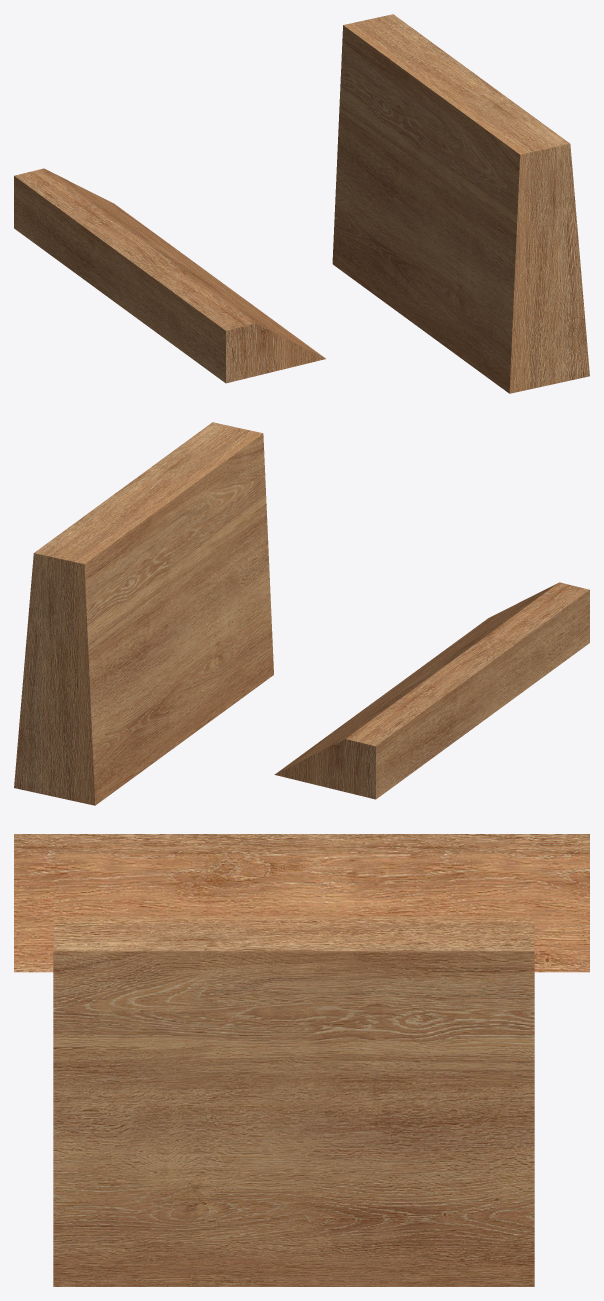
Rendered from 37821_deepcad.glb.
3 views of the same model, one above another, from view 1: azimuth 30°, elevation 25°; view 2: azimuth 150°, elevation 25°; view 3: azimuth 270°, elevation 25° (orthographic). The views are drawn at different scales.
Visible parts, largest first — view 1: test_cmd_37821_pred; view 2: test_cmd_37821_pred; view 3: test_cmd_37821_pred.
Boxes of the visible parts, x1=… form: test_cmd_37821_pred: x1=14, y1=14, x2=589, y2=393; test_cmd_37821_pred: x1=14, y1=422, x2=589, y2=805; test_cmd_37821_pred: x1=14, y1=834, x2=589, y2=1286.
Bounding box in the file's own units: 1 × 0.6022 × 0.9693.
Materials: 1 (1 with a texture image).
